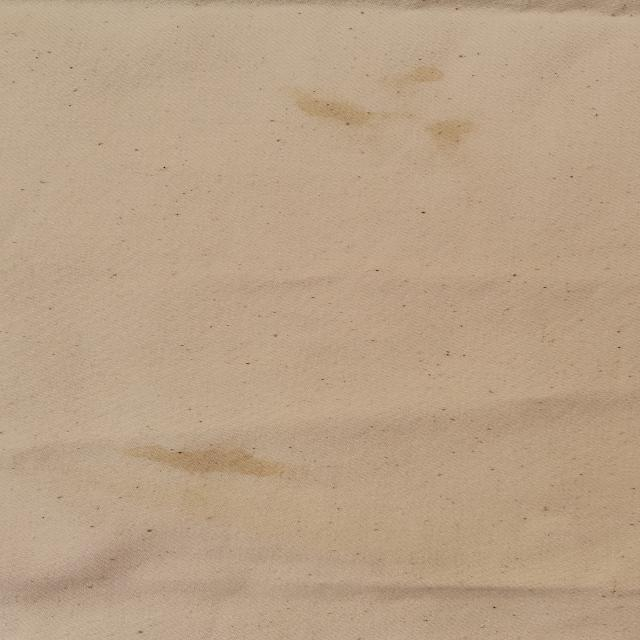taaaches: (117, 427, 280, 490), (260, 77, 372, 142), (380, 56, 454, 93), (427, 120, 479, 155)
